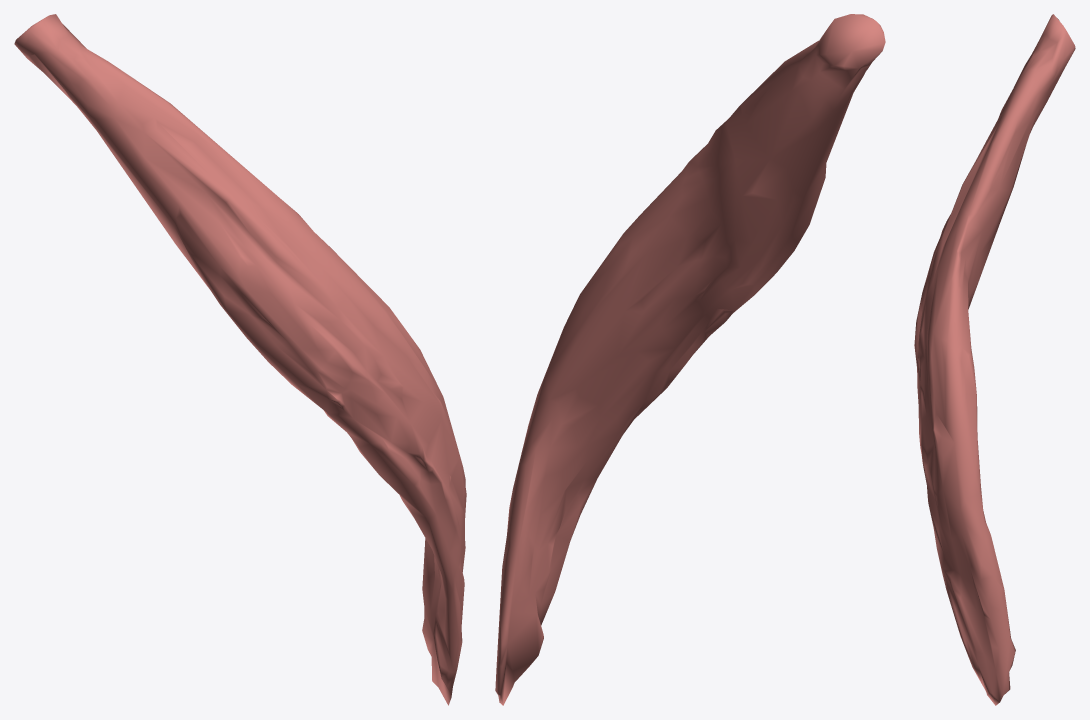
3 renders of one model, left to right at view 1: azimuth 30°, elevation 25°; view 2: azimuth 150°, elevation 25°; view 3: azimuth 270°, elevation 25°, orthographic. The views are drawn at different scales.
Parts seen in each view (by area): view 1: ZA_eb596122a8c3e502; view 2: ZA_eb596122a8c3e502; view 3: ZA_eb596122a8c3e502.
Part boxes in pixels (x1=…): ZA_eb596122a8c3e502: x1=14, y1=14, x2=466, y2=705; ZA_eb596122a8c3e502: x1=495, y1=14, x2=885, y2=705; ZA_eb596122a8c3e502: x1=914, y1=14, x2=1075, y2=705.
Bounding box in the file's own units: 0.0538 × 0.0971 × 0.0255.
